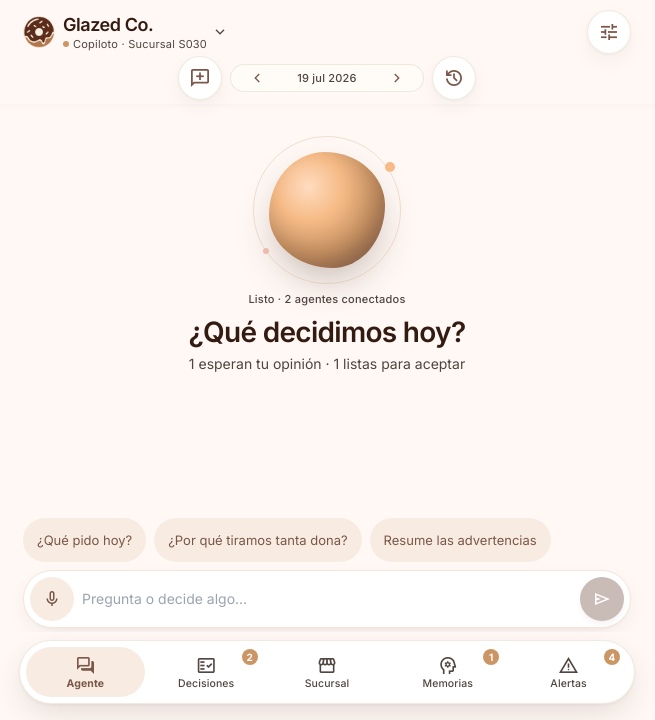
Copiloto (/copiloto) matches Copiloto.dc.html › Sucursal: the lost-sales figure is the served range, with 'por falta de producto' under it
The width and height of the screenshot is (655, 720).
Click the button "Sucursal": (327, 672) [268, 647, 386, 697]
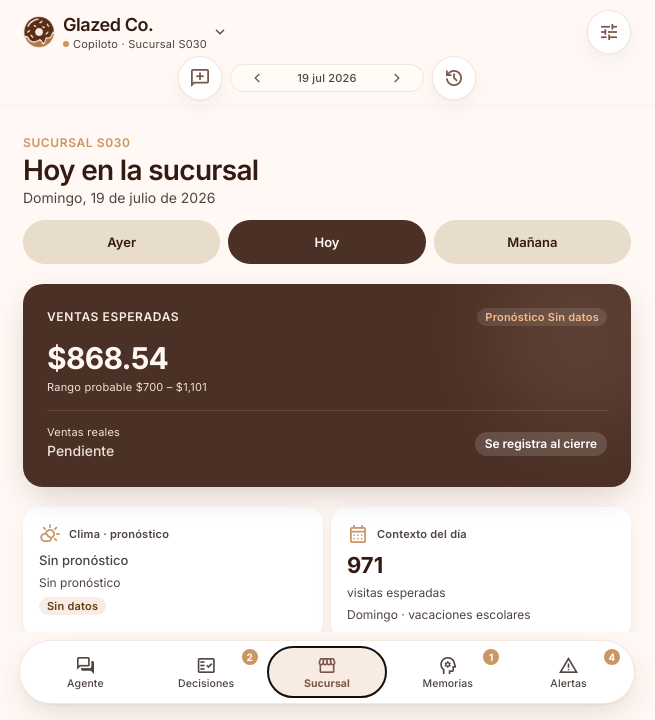
Click the tab "Mañana": (532, 242) [434, 220, 631, 264]
(page scrolled)
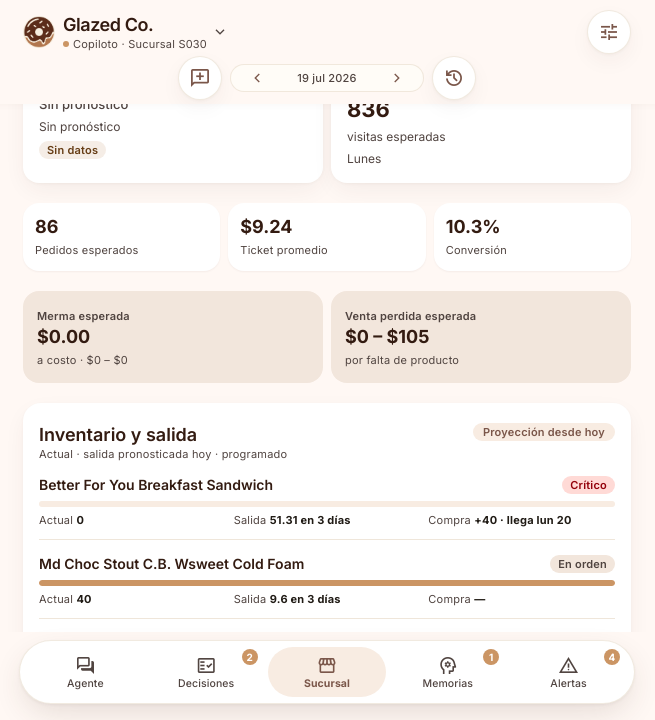
Expected: the text "por falta de producto" is shown, [345, 353, 459, 367]
Expected: the text "$0 – $105" is shown, [345, 326, 429, 347]
